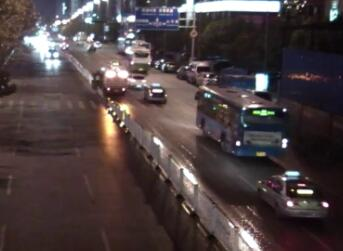bus: (191, 84, 291, 160), (122, 43, 152, 73)
car: (254, 169, 331, 225), (144, 80, 168, 106), (127, 69, 146, 91), (197, 68, 217, 88), (187, 60, 204, 78), (44, 46, 60, 61)
